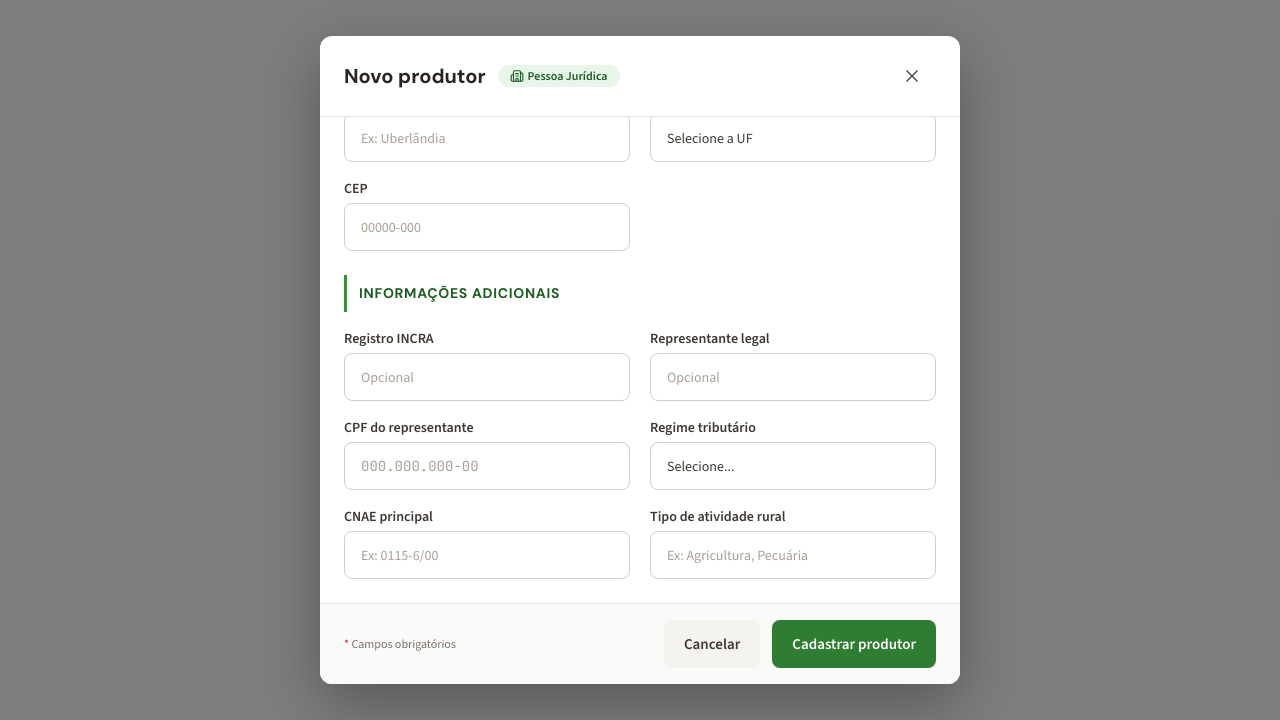
Scenario: ProducerPJFormModal › should format legal rep CPF while typing
(page scrolled)
Type "12345678901" into the field labelled "CPF do representante" at (487, 466), box [344, 442, 630, 490]
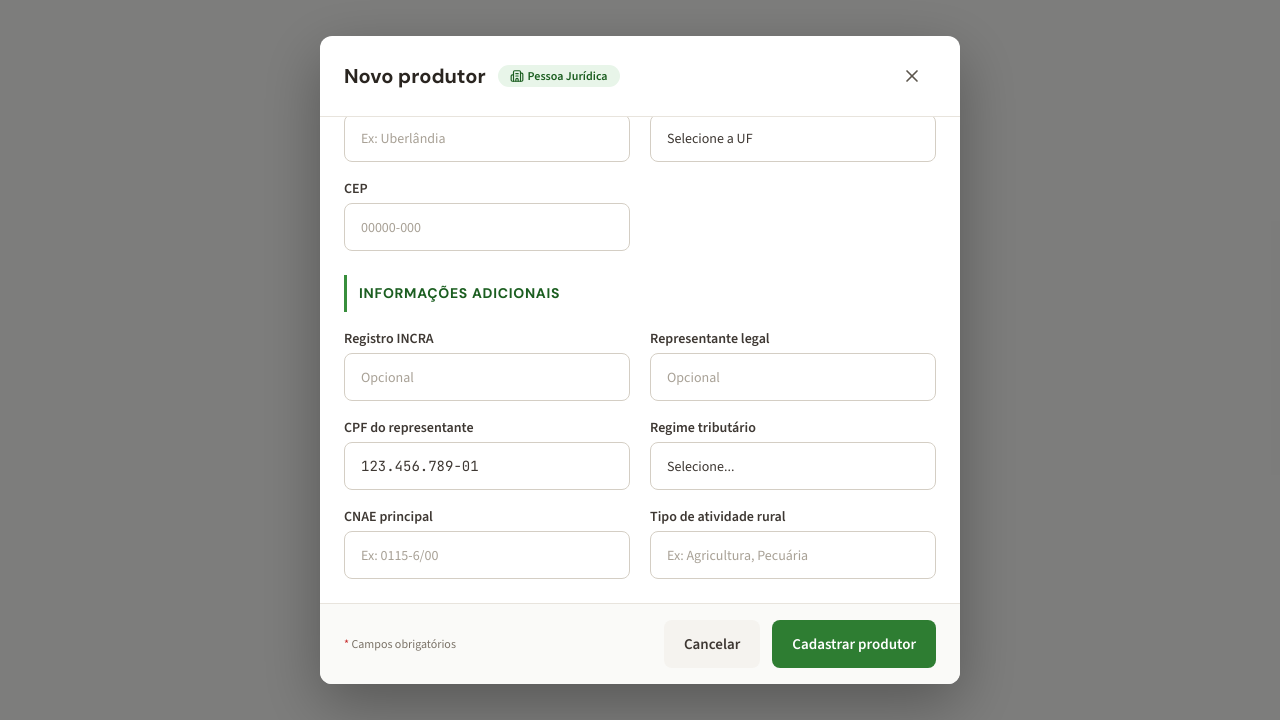
Expected: the field labelled "CPF do representante" holds "123.456.789-01", [344, 442, 630, 490]
